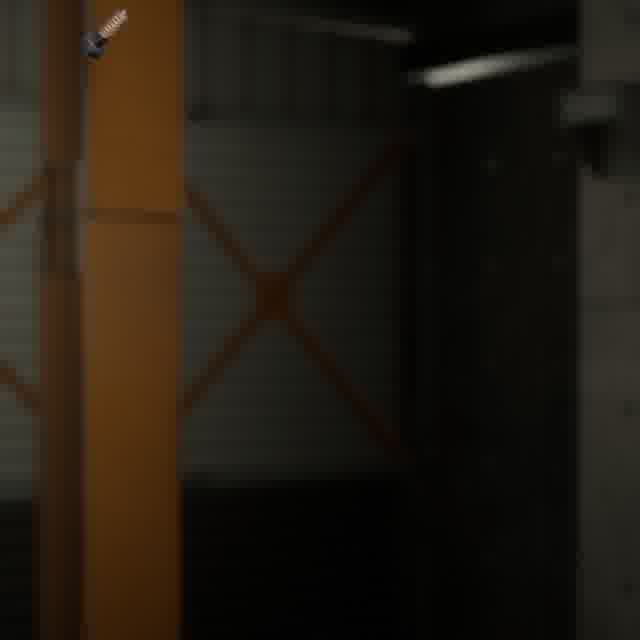bolt: (75, 4, 132, 63)
